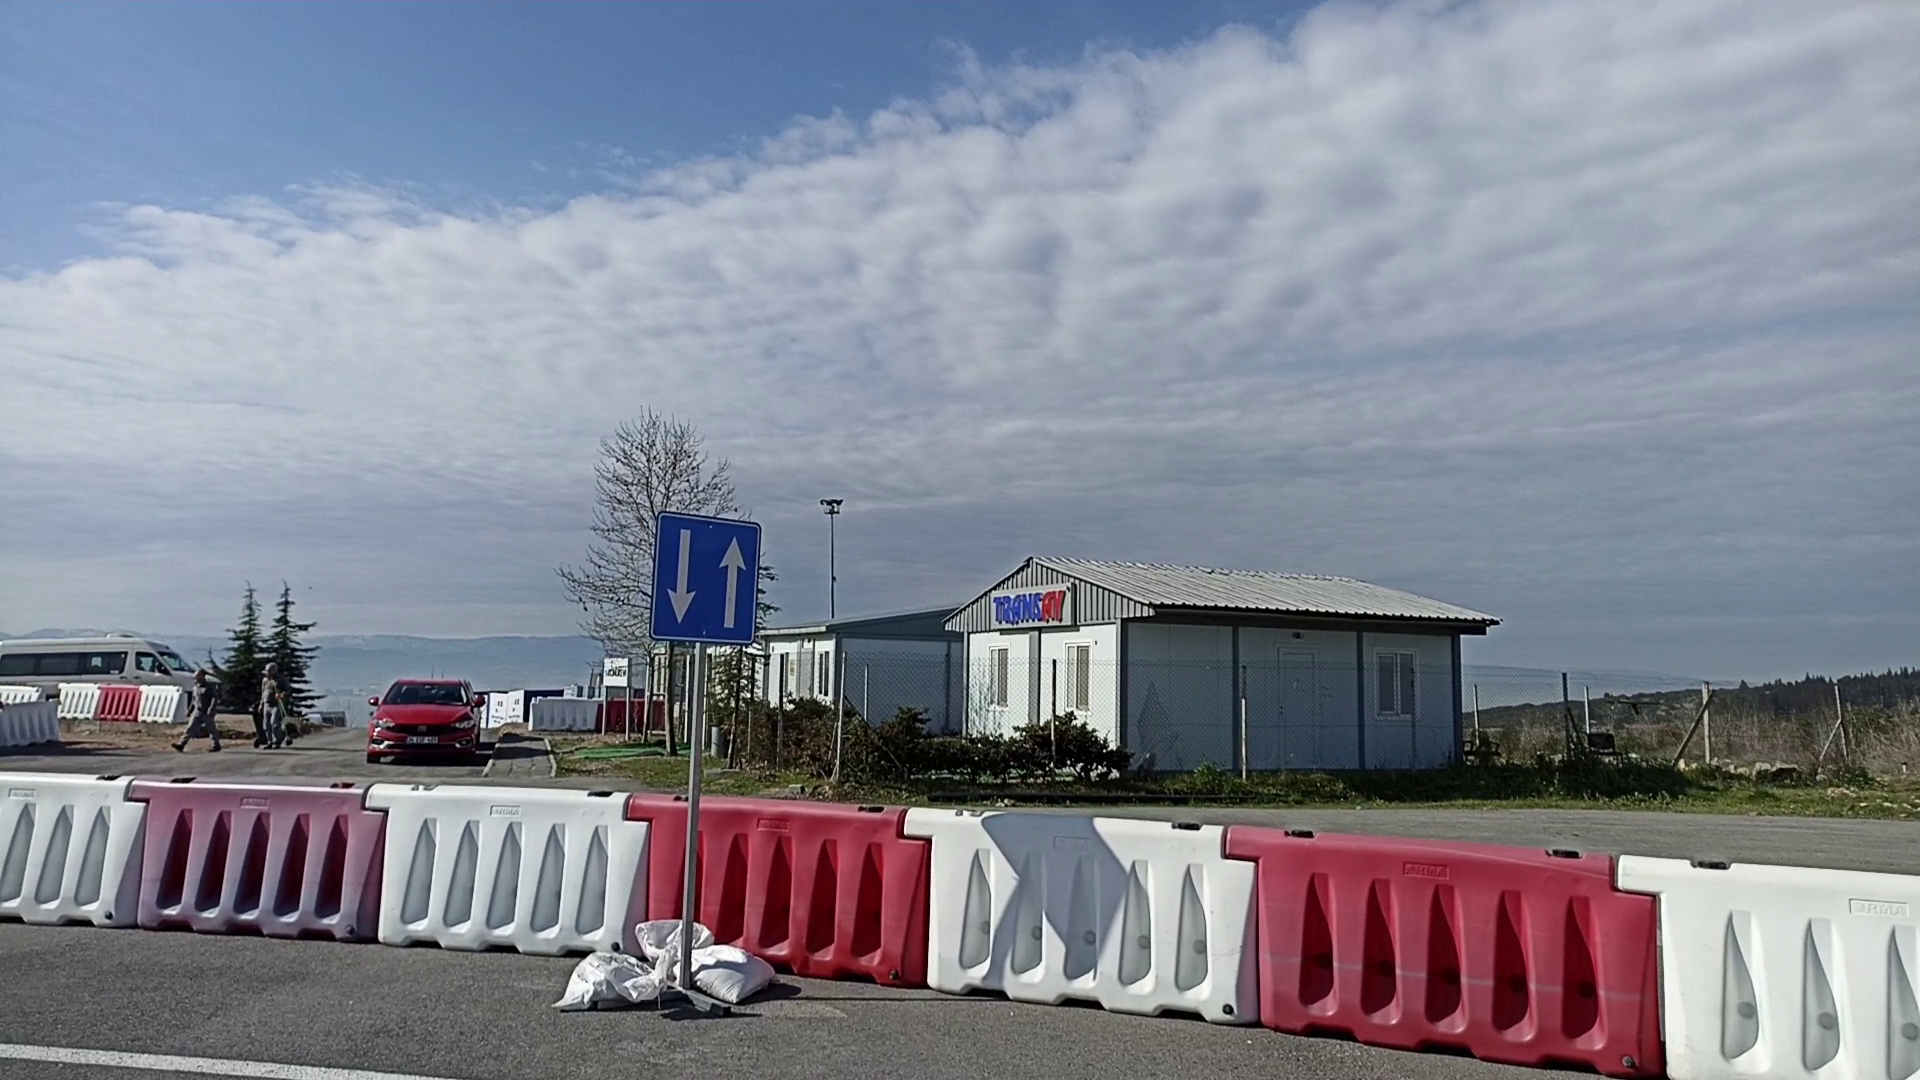oneway: (647, 506, 764, 647)
